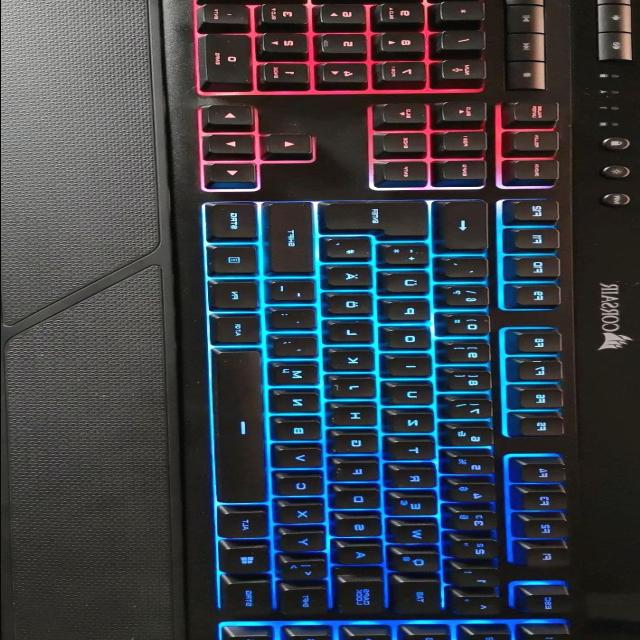0: (442, 314, 496, 338)
1: (451, 570, 503, 589)
2: (450, 541, 504, 561)
3: (447, 511, 503, 533)
4: (445, 484, 502, 505)
5: (443, 456, 499, 477)
6: (443, 426, 498, 448)
7: (442, 399, 497, 421)
8: (440, 370, 496, 394)
9: (441, 342, 496, 365)
a: (337, 546, 387, 566)
accent: (441, 259, 493, 281)
ae: (327, 267, 377, 289)
alt-left: (220, 511, 272, 540)
altgr-right: (214, 317, 264, 347)
b: (275, 420, 327, 443)
c: (279, 477, 328, 497)
caret: (454, 597, 504, 618)
comma: (272, 338, 321, 359)
d: (335, 491, 385, 511)
del: (436, 201, 493, 253)
e: (392, 497, 442, 518)
enter: (319, 203, 434, 239)
f: (336, 463, 384, 483)
g: (333, 435, 383, 456)
h: (332, 407, 381, 428)
hash: (325, 239, 377, 262)
i: (390, 358, 436, 379)
j: (333, 379, 380, 399)
k: (329, 351, 379, 373)
keyboard: (161, 0, 586, 640)
l: (328, 323, 378, 345)
less: (283, 562, 332, 582)
m: (271, 364, 323, 387)
minus: (269, 282, 319, 304)
n: (272, 393, 324, 415)
o: (386, 330, 435, 352)
oe: (327, 295, 377, 317)
p: (384, 302, 434, 324)
plus: (382, 245, 434, 267)
point: (271, 310, 320, 332)
q: (395, 553, 445, 574)
r: (392, 468, 441, 490)
s: (335, 519, 385, 539)
shift-left: (281, 588, 331, 618)
shift-lock: (336, 581, 388, 617)
shift-right: (268, 203, 318, 275)
space: (215, 351, 269, 505)
ss: (442, 287, 494, 309)
strg-left: (222, 582, 274, 618)
strg-right: (207, 202, 262, 242)
t: (391, 441, 441, 462)
tab: (393, 581, 445, 616)
u: (387, 385, 437, 407)
ue: (382, 274, 434, 296)
v: (276, 448, 328, 470)
w: (391, 522, 443, 545)
x: (279, 504, 329, 525)
y: (281, 533, 330, 553)
z: (387, 413, 439, 435)
